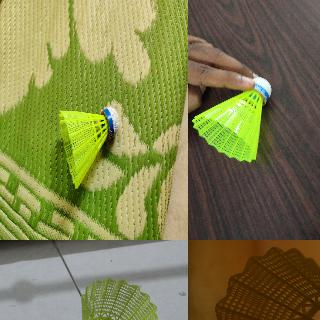shuttlecock: (210, 246, 319, 319), (192, 80, 272, 162), (58, 106, 118, 190), (77, 279, 158, 319)
